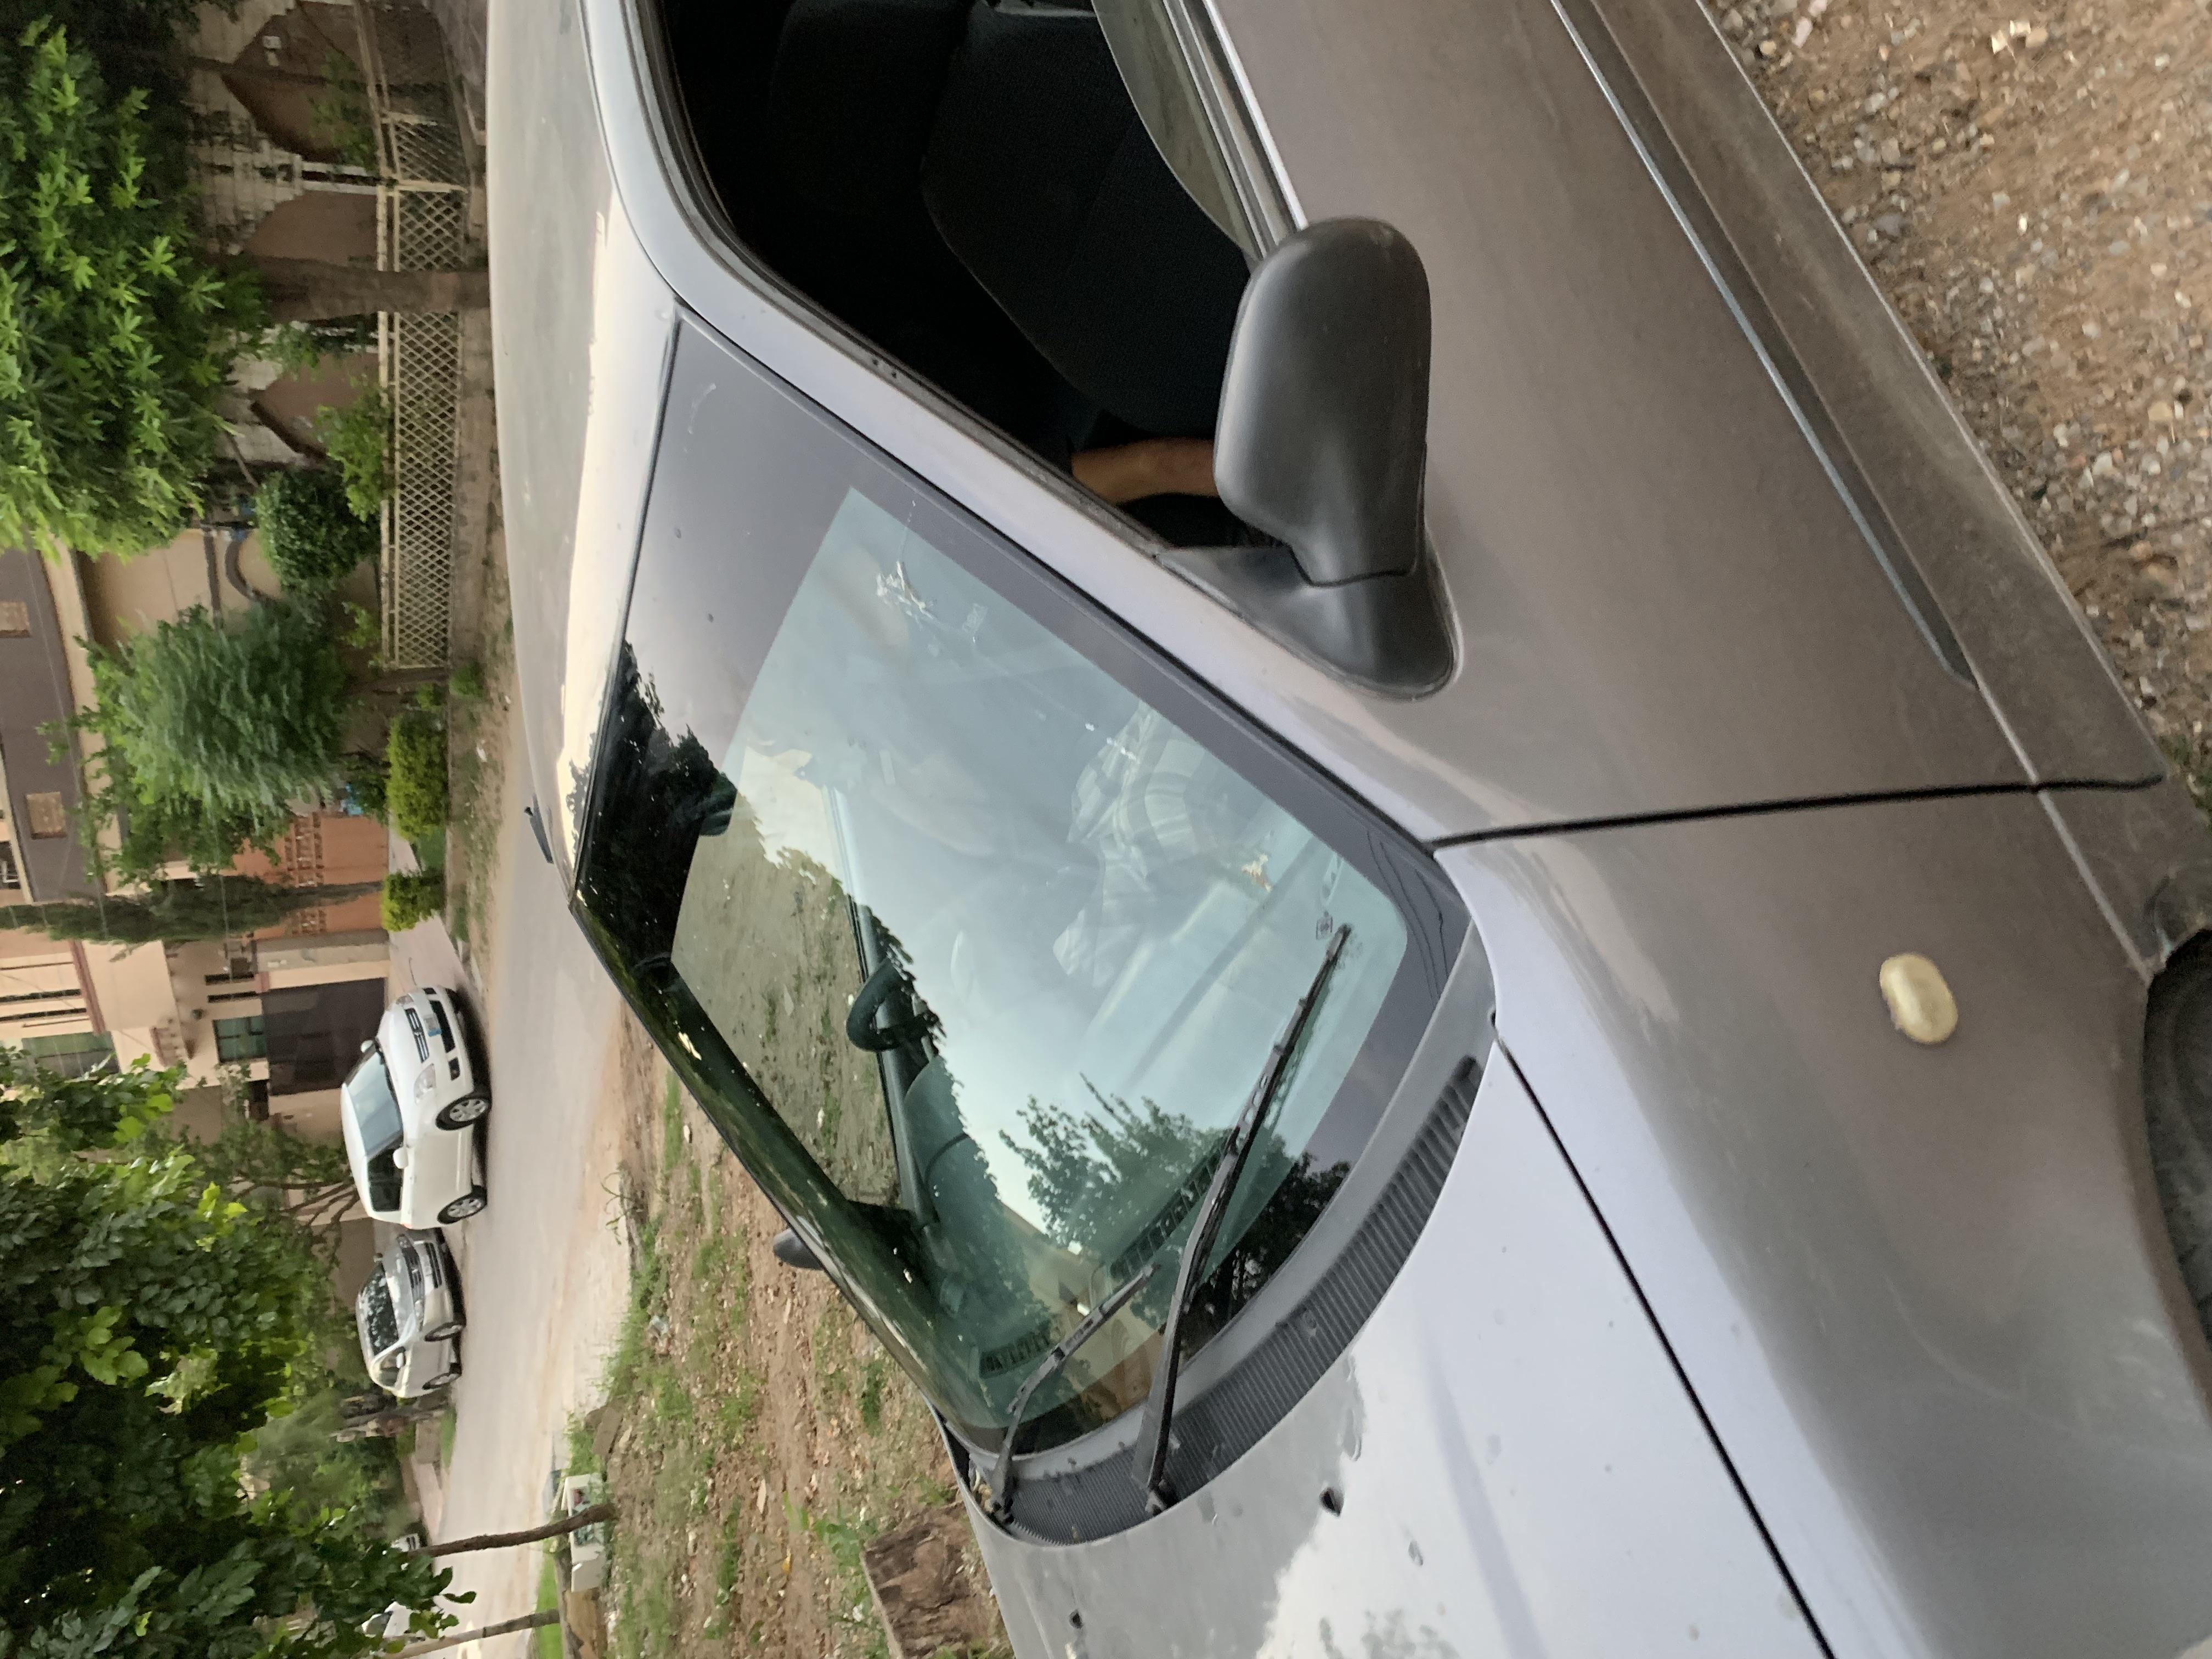windshield: (192, 403, 1810, 1140)
